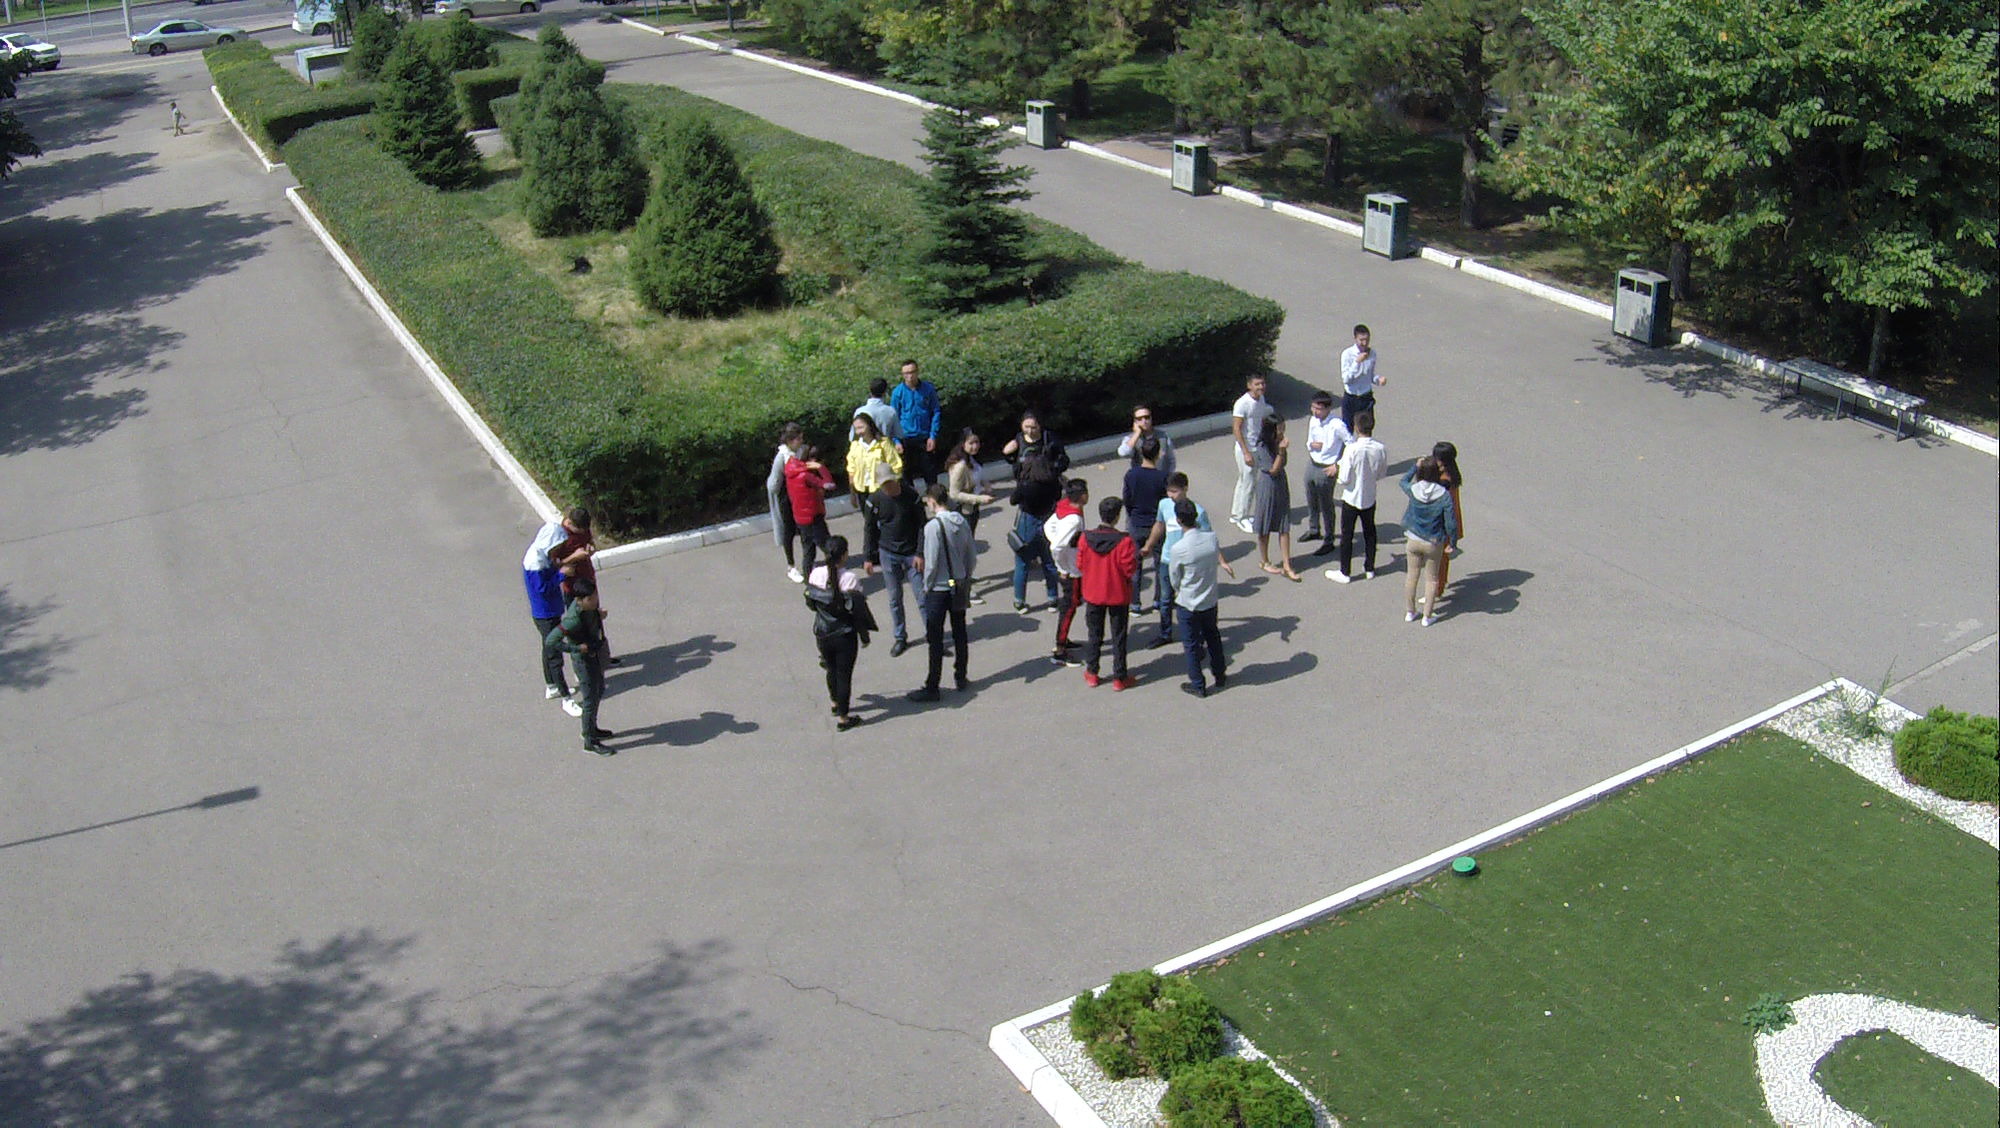person: (912, 495, 985, 703), (807, 537, 874, 751), (1076, 483, 1143, 695), (1168, 499, 1239, 691), (1330, 414, 1393, 591), (555, 591, 622, 751), (1043, 478, 1097, 674), (885, 455, 932, 643), (1226, 374, 1282, 526), (522, 526, 570, 699), (1403, 460, 1451, 630), (787, 443, 841, 595), (1305, 397, 1357, 551), (1264, 410, 1301, 585), (885, 355, 949, 443), (1341, 316, 1389, 433), (755, 426, 793, 568), (943, 422, 991, 526), (830, 414, 882, 501), (1118, 405, 1168, 491), (1005, 416, 1064, 478), (562, 508, 601, 578)
